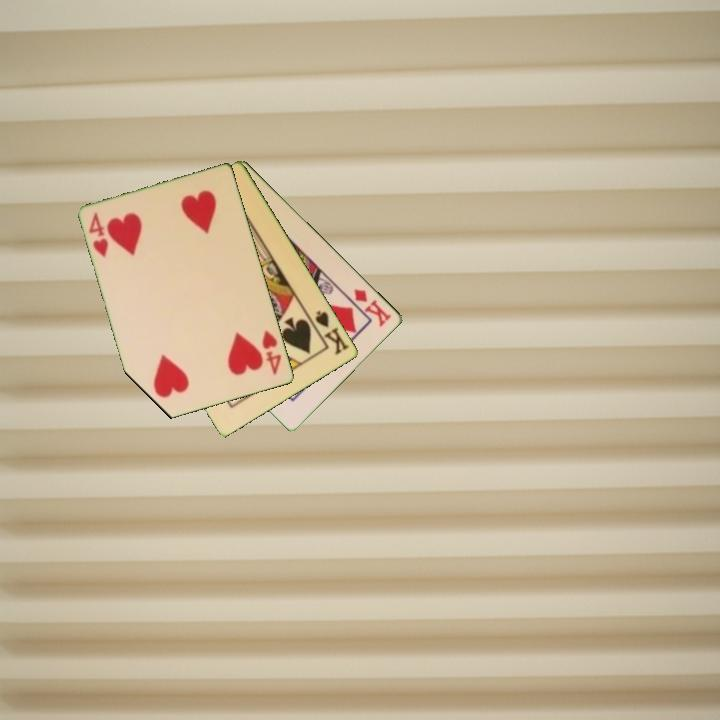4h: (259, 327, 285, 378), (86, 209, 112, 260)
Kd: (350, 285, 395, 330)
Ks: (306, 307, 352, 358)
